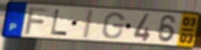4: (133, 13, 153, 43)
6: (157, 14, 178, 43)
F: (24, 6, 51, 36)
G: (101, 11, 126, 40)
I: (80, 8, 96, 41)
L: (49, 9, 68, 37)
